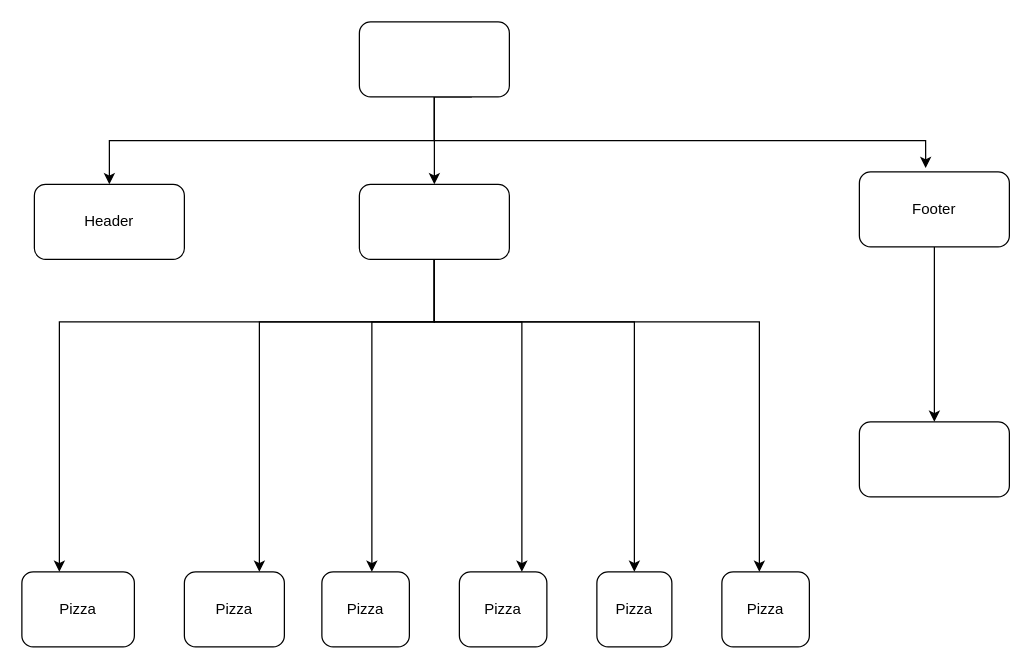
Image size: 1031x669. Some labels were removed from this diagram. Each missing label, with the box of its shape:
App: (358, 21, 509, 97)
Menu: (358, 183, 509, 259)
Order: (858, 421, 1009, 497)
